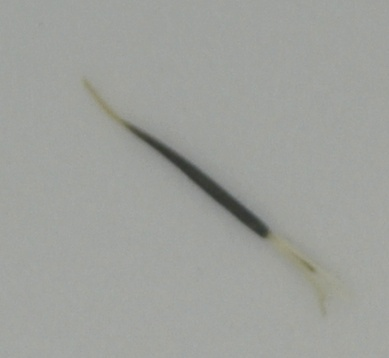เมล็ดดีเรียวยาว: (80, 73, 346, 313)
